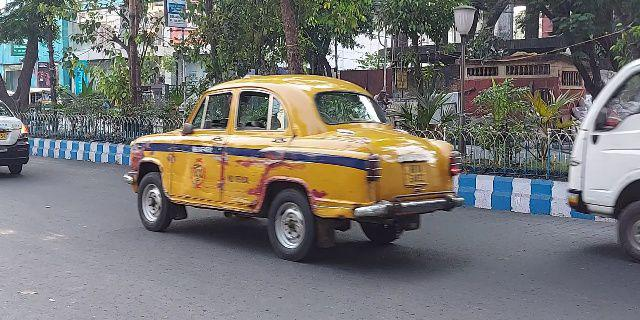Car: (121, 73, 462, 256), (1, 97, 32, 179)
Minitruck: (556, 52, 640, 257)
